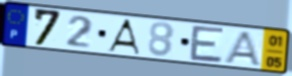2: (65, 15, 95, 50)
7: (31, 7, 63, 48)
8: (147, 21, 177, 60)
A: (221, 30, 263, 68), (105, 18, 142, 57)
E: (188, 24, 227, 65)
